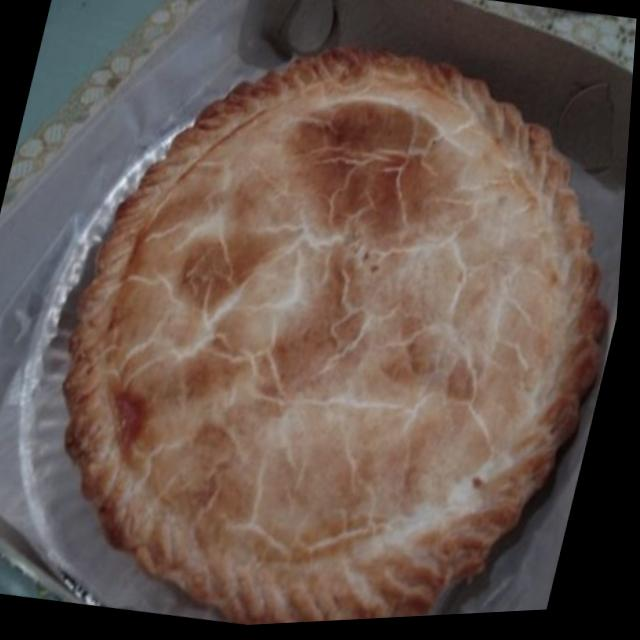炸货点心: (0, 1, 639, 639)
蛋糕甜品: (0, 1, 639, 639)
